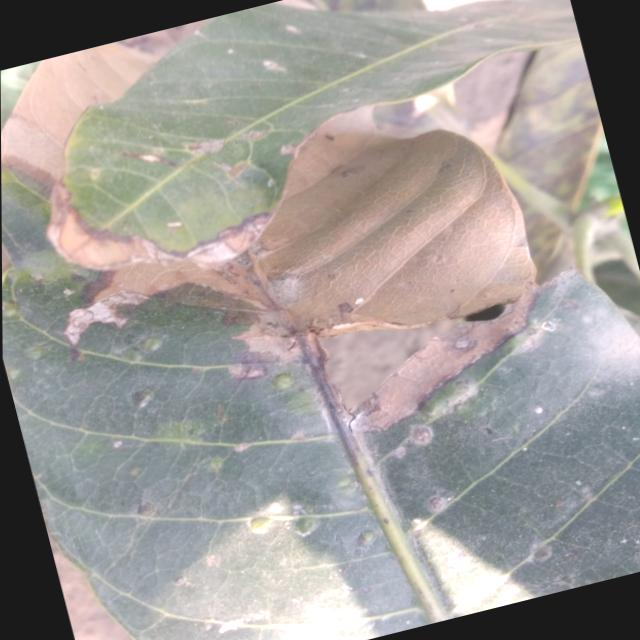Bacterial Cancer: (330, 155, 522, 323), (252, 280, 373, 367)
Powdery Mildew: (50, 300, 120, 346), (263, 499, 288, 517)
gall midge: (121, 382, 155, 415), (347, 524, 378, 551), (263, 368, 295, 394)
